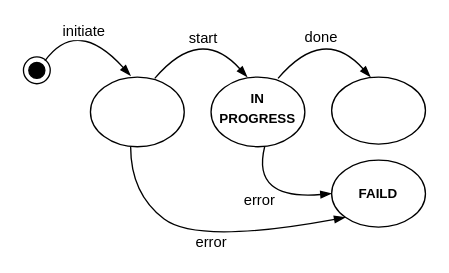
The diagram is 449 pixels wide and 273 high, and some of its shapes have lost their labels. Here are the shapes that lost their labels. From the top down, the box of each, then its label:
(89, 76, 184, 147): PENDING
(330, 76, 425, 144): CREATED
